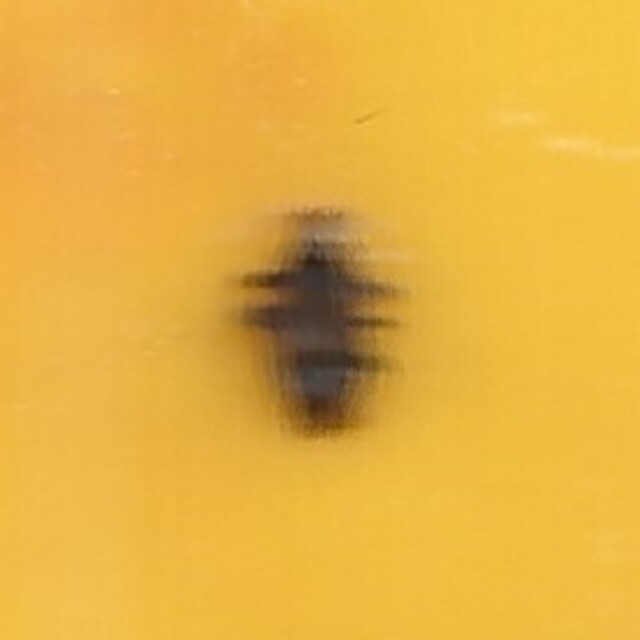Coleoptera: (234, 200, 406, 440)
